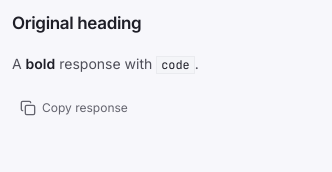
literal clipboard behavior › copies original Markdown including original line endings and outer whitespace
What coordinates should you click on to do the following:
click the button "Copy response"
I would click on:
 (74, 108)
Its box is [12,92,136,124].
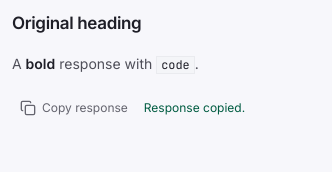
Expected: the message reads "Response copied.", [144,100,245,115]
